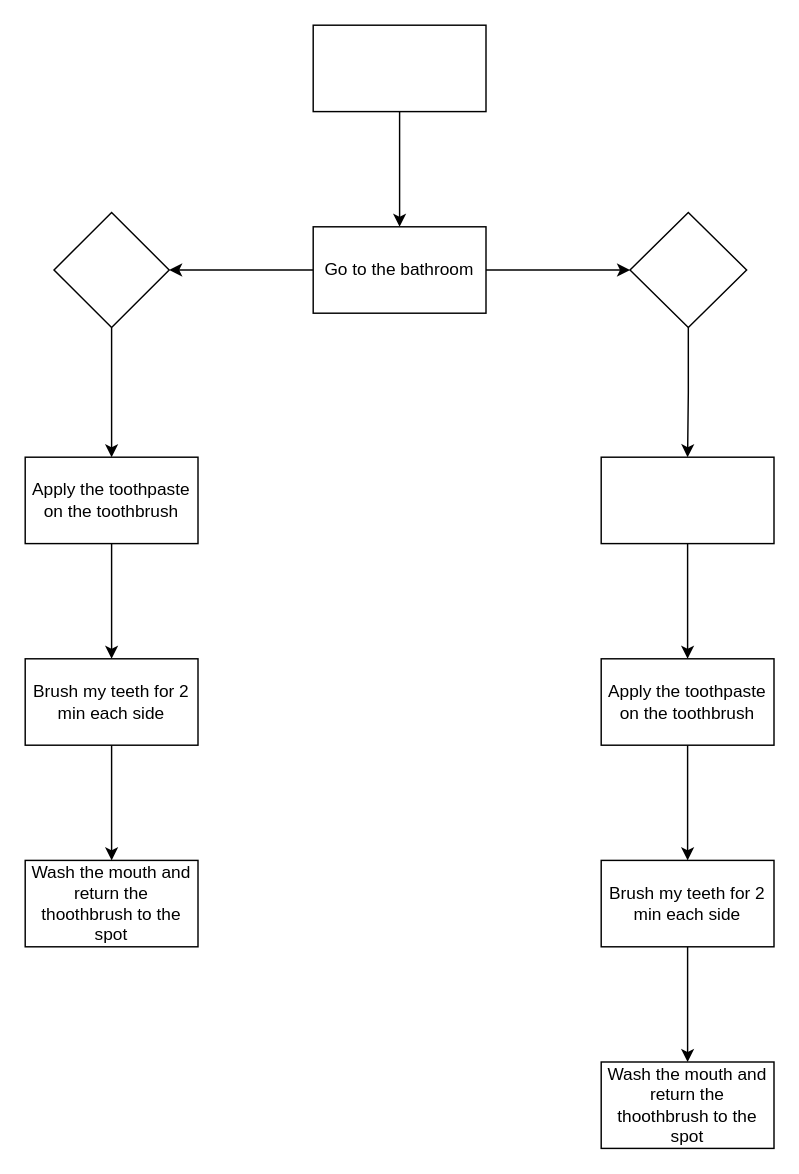
The diagram is 799 pixels wide and 1174 high, and some of its shapes have lost their labels. Here are the shapes that lost their labels. From the top down, the box of each, then its label:
(312, 24, 486, 112): Wake up in the morning
(53, 211, 169, 328): Has toothbrush
(629, 211, 747, 328): Doesnt have toothbrush
(600, 456, 774, 544): Go to the closet and get a new toothbrush
